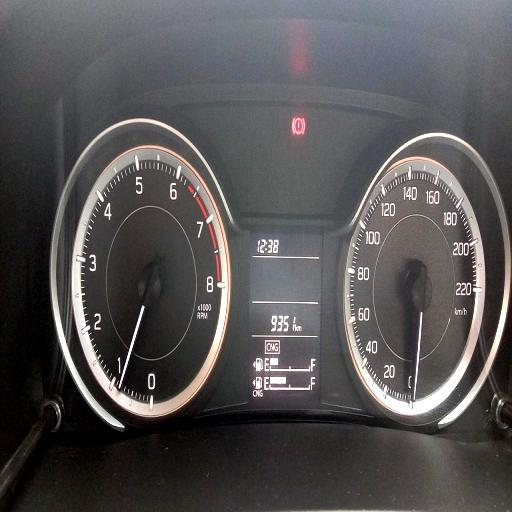brake_system_fault: (292, 116, 306, 136)
tachometer: (73, 142, 230, 418)
